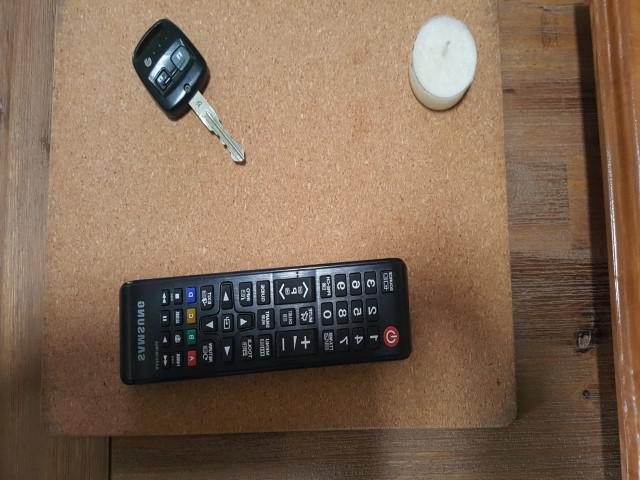key: (134, 19, 248, 248)
